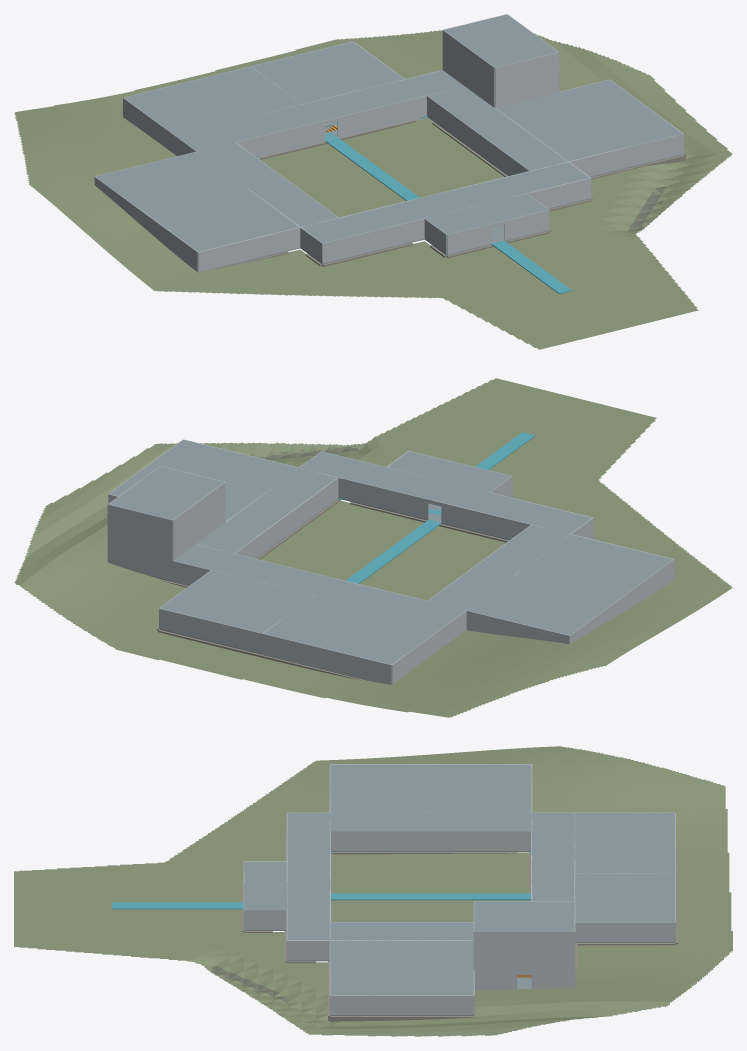
File: supported-arrival.glb
3 renders of one model, top to bottom at view 1: azimuth 30°, elevation 25°; view 2: azimuth 150°, elevation 25°; view 3: azimuth 270°, elevation 25°, orthographic. The views are drawn at different scales.
Parts seen in each view (by area): view 1: Saved editor macroterrain WLD-10, Ceiling cap dorm, Ceiling cap refectory, Ceiling cap archive, Ceiling cap north, Ceiling cap south, Ceiling cap vestry, Ceiling cap west, Ceiling cap east, Ceiling cap bell, Ceiling cap gatehouse, Wall refectory S (+15 smaller); view 2: Saved editor macroterrain WLD-10, Ceiling cap dorm, Ceiling cap archive, Ceiling cap north, Ceiling cap south, Ceiling cap vestry, Ceiling cap refectory, Ceiling cap west, Ceiling cap east, Ceiling cap bell, Wall archive N, Wall tower-base N (+13 smaller); view 3: Saved editor macroterrain WLD-10, Ceiling cap dorm, Ceiling cap refectory, Ceiling cap archive, Ceiling cap south, Ceiling cap vestry, Wall west E, Ceiling cap north, Ceiling cap west, Ceiling cap bell, Wall refectory E, Ceiling cap east (+9 smaller).
Boxes of the visible parts, x1,y1,x2,y2 form: Saved editor macroterrain WLD-10: [14, 30, 732, 349]; Ceiling cap dorm: [95, 152, 299, 251]; Ceiling cap refectory: [496, 80, 682, 161]; Ceiling cap archive: [124, 66, 301, 135]; Ceiling cap north: [175, 70, 464, 151]; Ceiling cap south: [301, 162, 589, 243]; Ceiling cap vestry: [252, 42, 403, 103]; Ceiling cap west: [197, 142, 338, 226]; Ceiling cap east: [427, 86, 567, 170]; Ceiling cap bell: [444, 14, 558, 67]; Ceiling cap gatehouse: [425, 193, 548, 234]; Wall refectory S: [568, 134, 683, 176]; Saved editor macroterrain WLD-10: [14, 378, 732, 717]; Ceiling cap dorm: [467, 534, 672, 635]; Ceiling cap archive: [263, 595, 443, 664]; Ceiling cap north: [174, 544, 465, 626]; Ceiling cap south: [300, 451, 591, 533]; Ceiling cap vestry: [160, 570, 314, 632]; Ceiling cap refectory: [109, 440, 298, 521]; Ceiling cap west: [428, 525, 569, 610]; Ceiling cap east: [196, 468, 337, 553]; Ceiling cap bell: [108, 466, 223, 519]; Wall archive N: [262, 633, 391, 684]; Wall tower-base N: [108, 525, 172, 580]; Saved editor macroterrain WLD-10: [14, 746, 732, 1036]; Ceiling cap dorm: [330, 764, 531, 812]; Ceiling cap refectory: [330, 940, 473, 995]; Ceiling cap archive: [574, 813, 675, 873]; Ceiling cap south: [287, 813, 330, 940]; Ceiling cap vestry: [574, 873, 675, 922]; Wall west E: [331, 831, 530, 850]; Ceiling cap north: [531, 813, 574, 901]; Ceiling cap west: [330, 813, 531, 831]; Ceiling cap bell: [474, 901, 574, 931]; Wall refectory E: [330, 995, 473, 1014]; Ceiling cap east: [330, 922, 473, 940].
Bounding box in the file's own units: 92 × 12.16 × 100.
